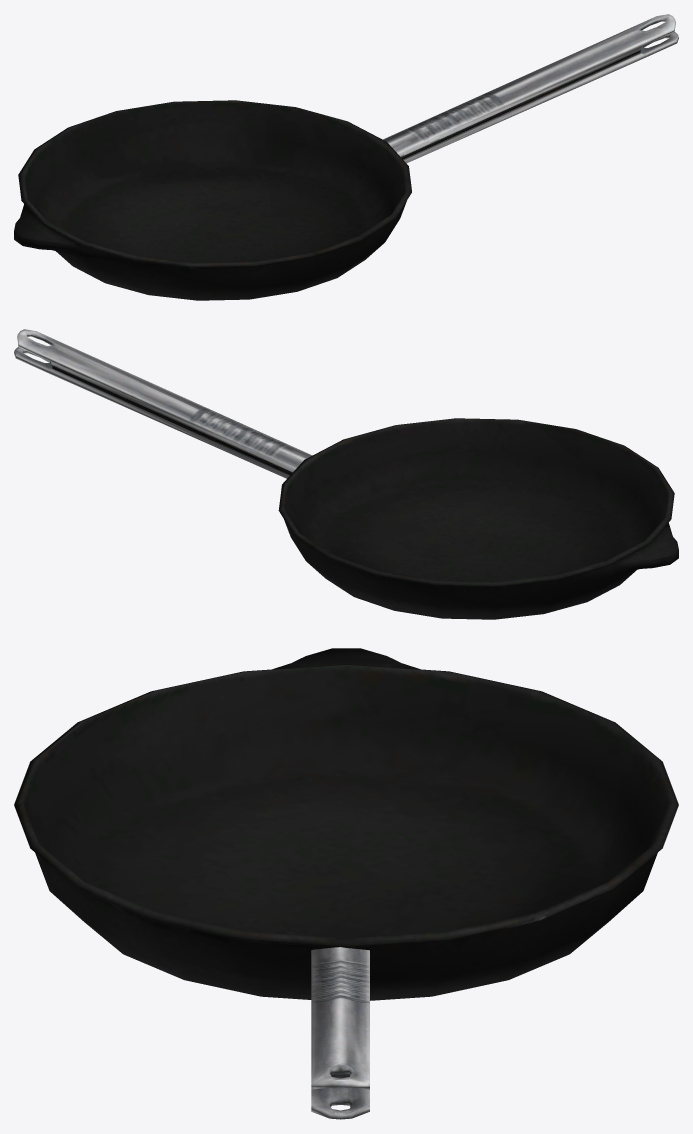
File: frying_pan.dae
3 views of the same model, one above another, from view 1: azimuth 30°, elevation 25°; view 2: azimuth 150°, elevation 25°; view 3: azimuth 270°, elevation 25° (orthographic). The views are drawn at different scales.
Visible parts, largest first — view 1: frying_pan; view 2: frying_pan; view 3: frying_pan.
Boxes of the visible parts, box(x1,y1,x2,y2) form: frying_pan: box(14, 14, 678, 300); frying_pan: box(14, 329, 678, 619); frying_pan: box(14, 648, 678, 1119).
Bounding box in the file's own units: 53.71 × 8.27 × 28.07.
